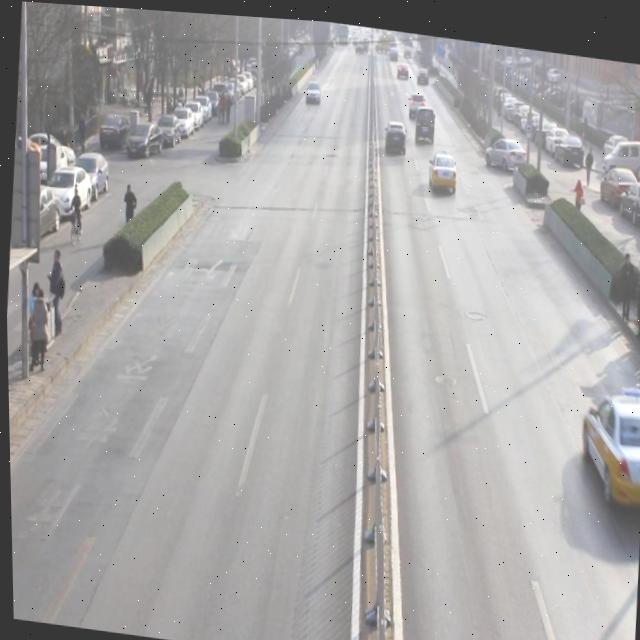car: (576, 378, 640, 495), (482, 125, 528, 168), (426, 147, 459, 192), (381, 111, 408, 154), (405, 83, 426, 116), (303, 72, 323, 106)
truck: (411, 101, 437, 141)
